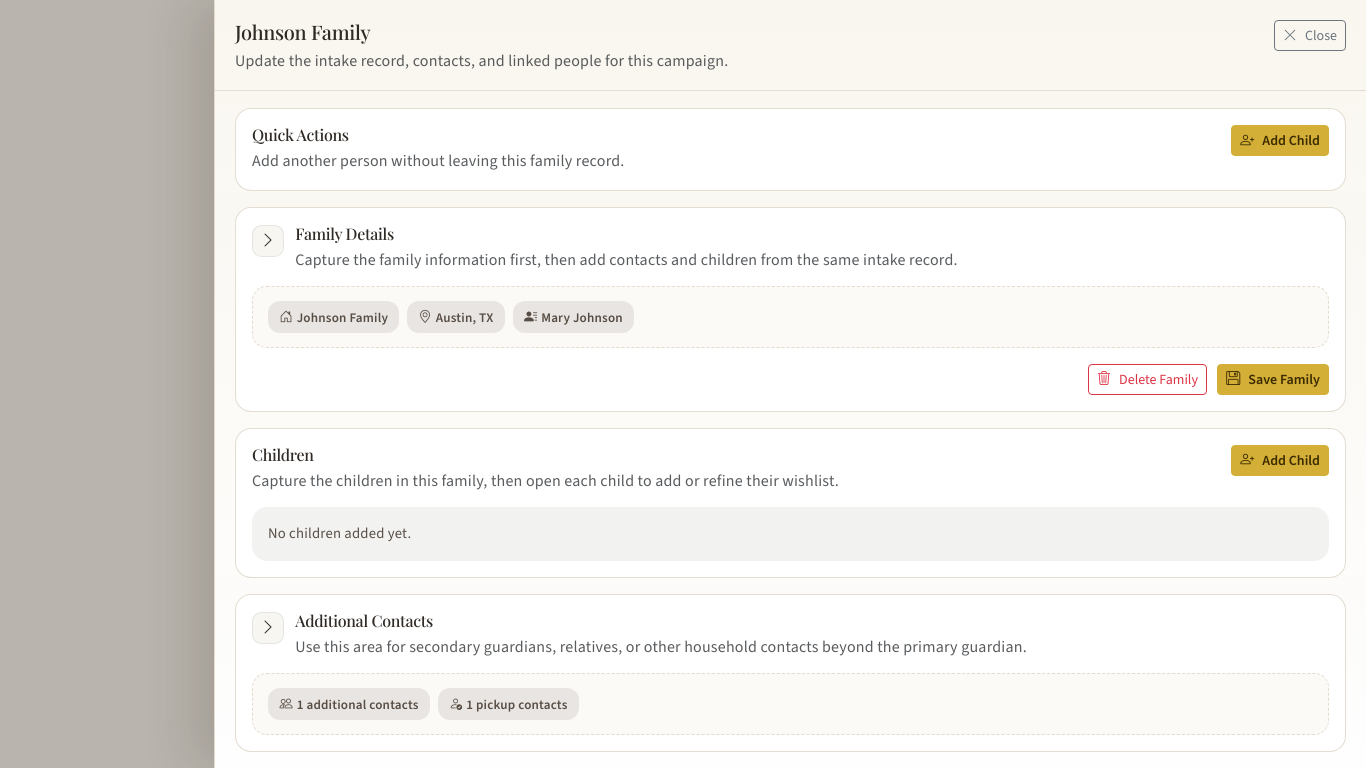
Test: CampaignPeopleGroupDrawer › starts family details and additional contacts collapsed when editing an existing household
Expected: the text "Mary Johnson" is shown, [513,301,634,333]
Expected: the text "1 additional contacts" is shown, [268,688,430,720]
Click the button named "Expand group details".
click(268, 241)  # box [252,225,284,257]
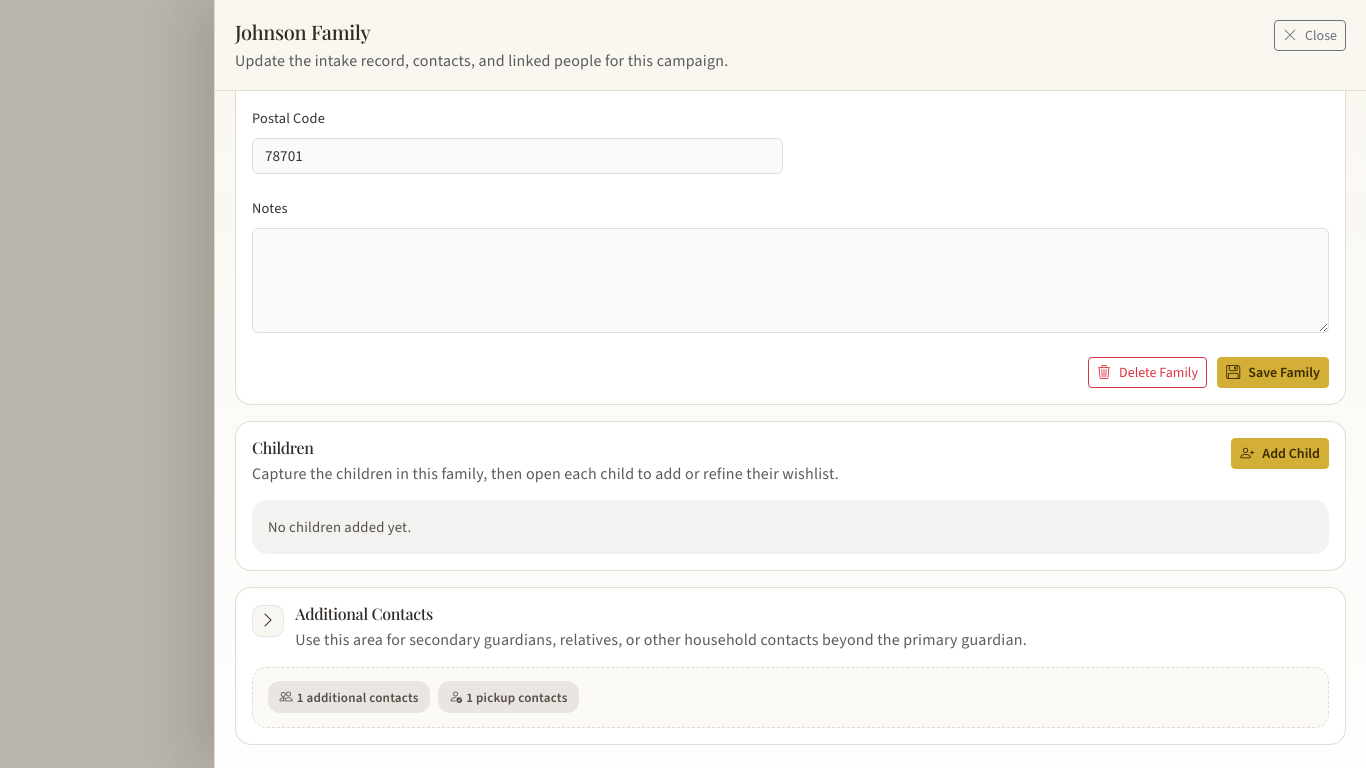
Click the button named "Expand additional contacts".
click(268, 621)  # box [252,605,284,637]
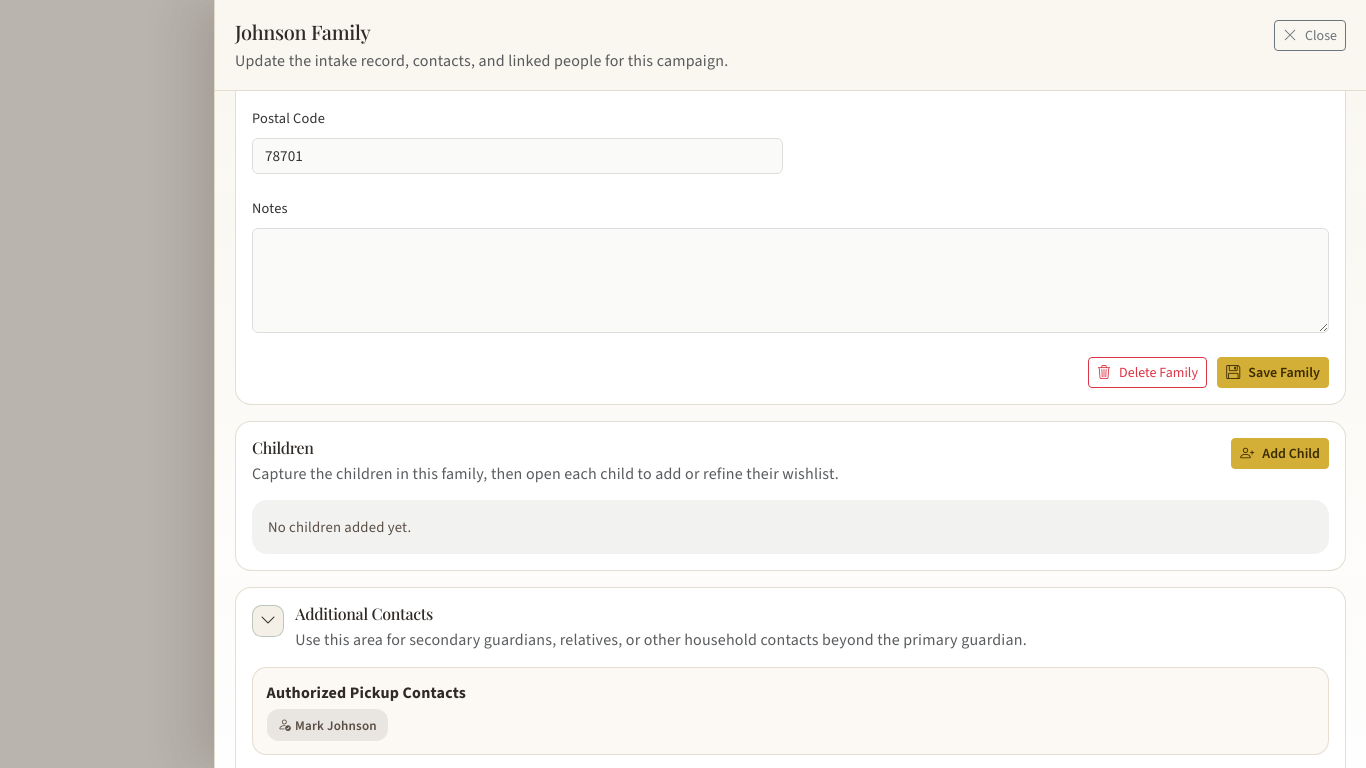
Expected: the text "Mark Johnson" is shown, [267,709,388,741]
